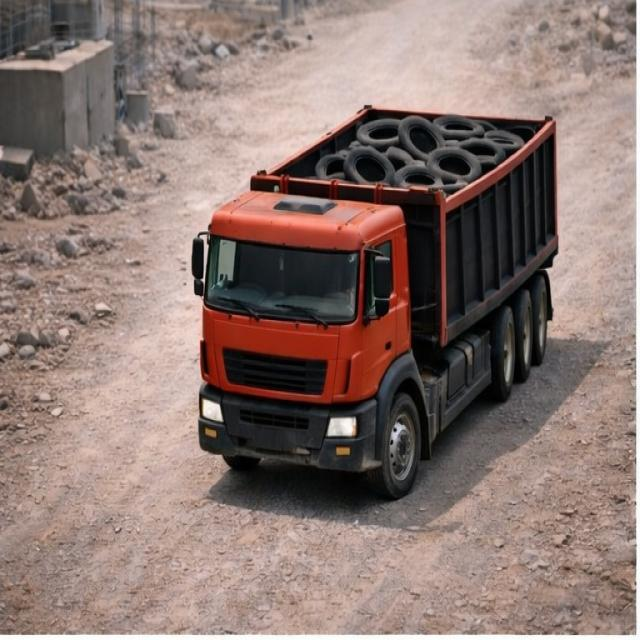trailer: (248, 102, 559, 196)
truck: (186, 72, 570, 480)
